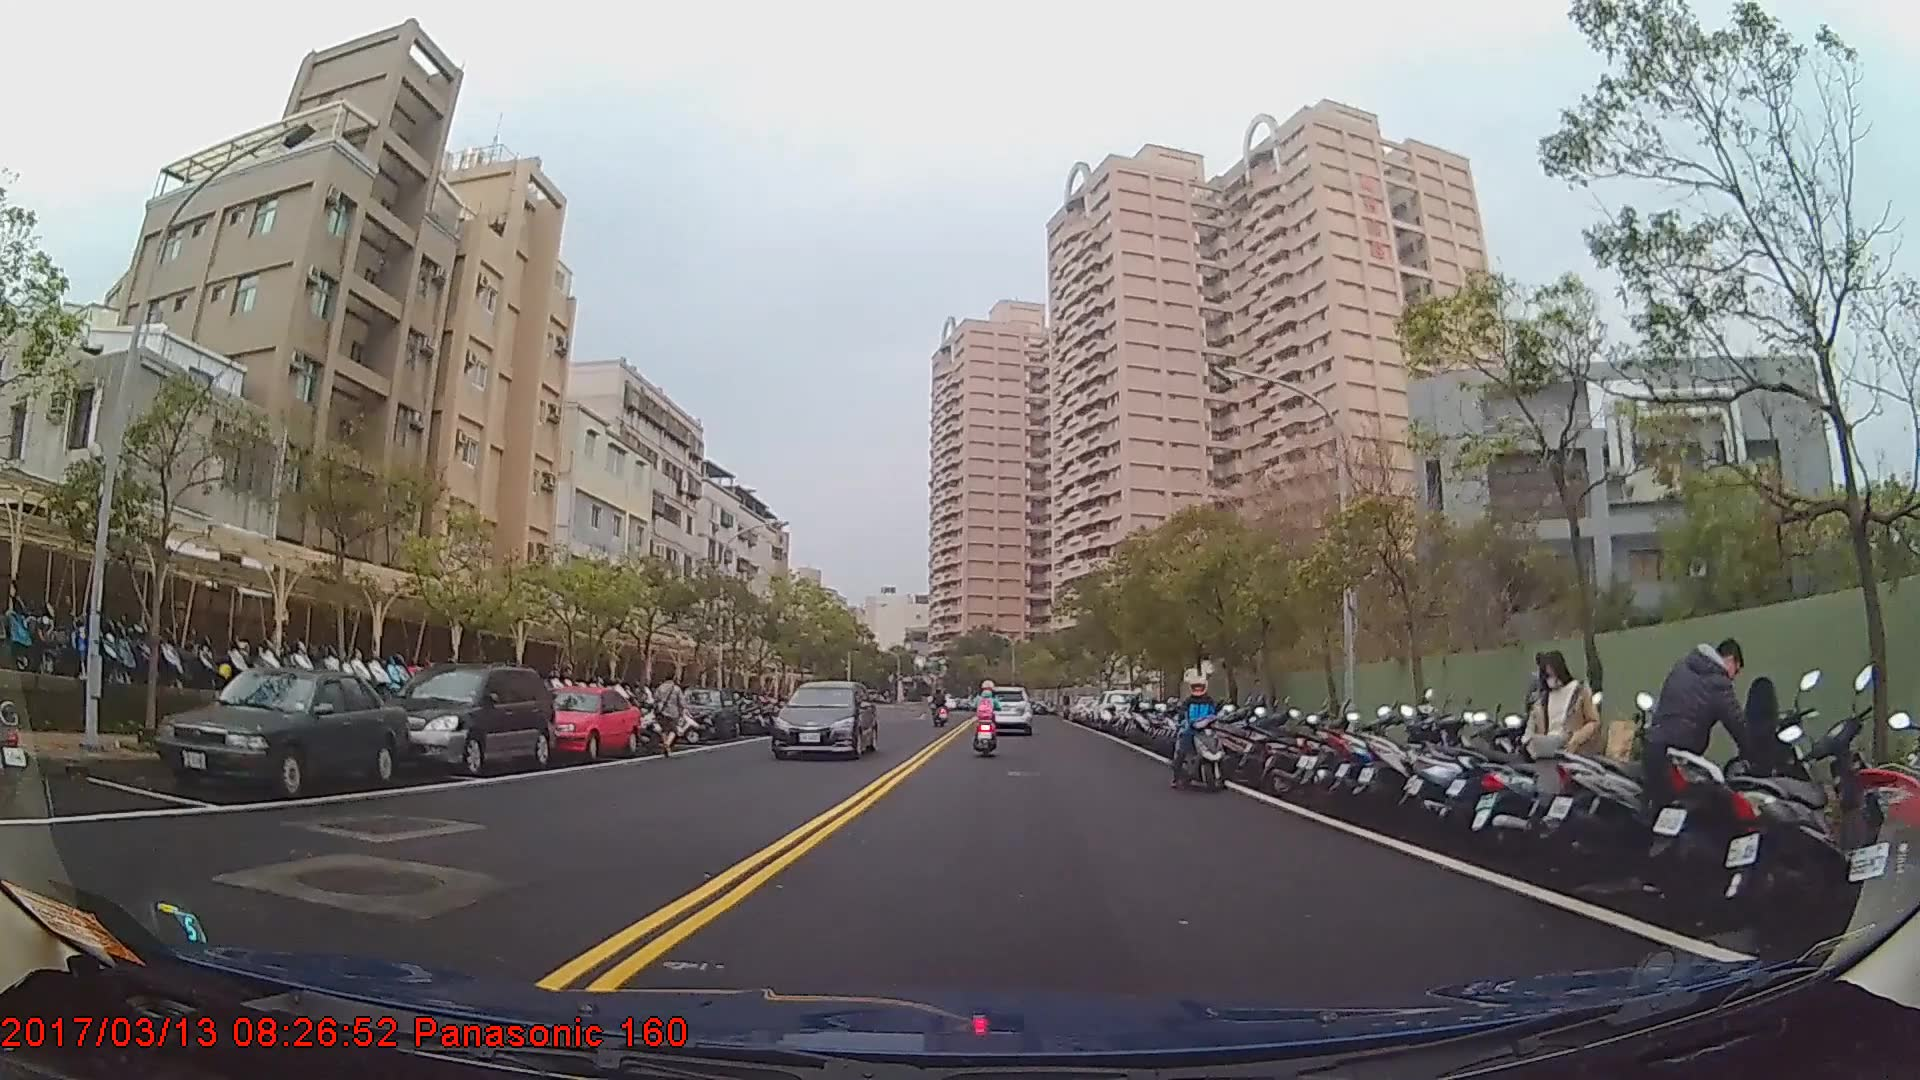pedestrian: (1645, 642, 1780, 877), (1532, 649, 1606, 859), (647, 674, 690, 761)
rider: (1169, 676, 1229, 794), (970, 681, 1002, 755), (930, 688, 950, 727)
vehicle: (155, 666, 405, 793), (376, 662, 556, 775), (772, 676, 880, 761), (529, 686, 642, 762), (675, 686, 739, 742), (981, 682, 1034, 738), (1091, 688, 1144, 732)
